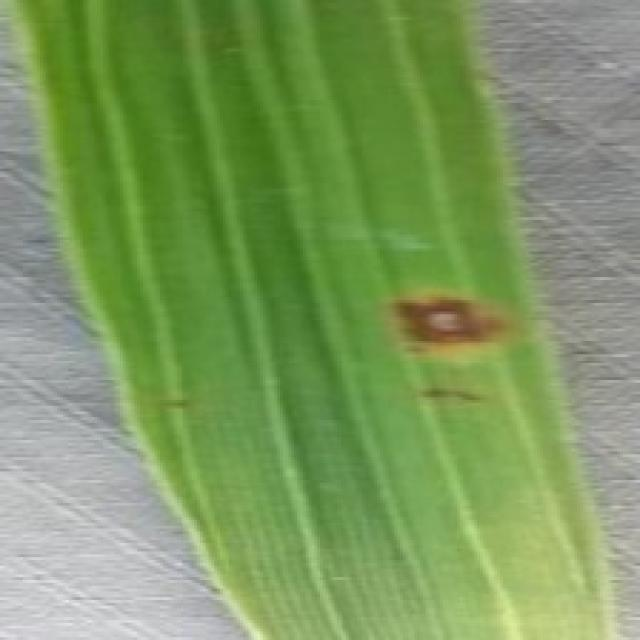Rice___Brown_Spot: (10, 0, 612, 637)
